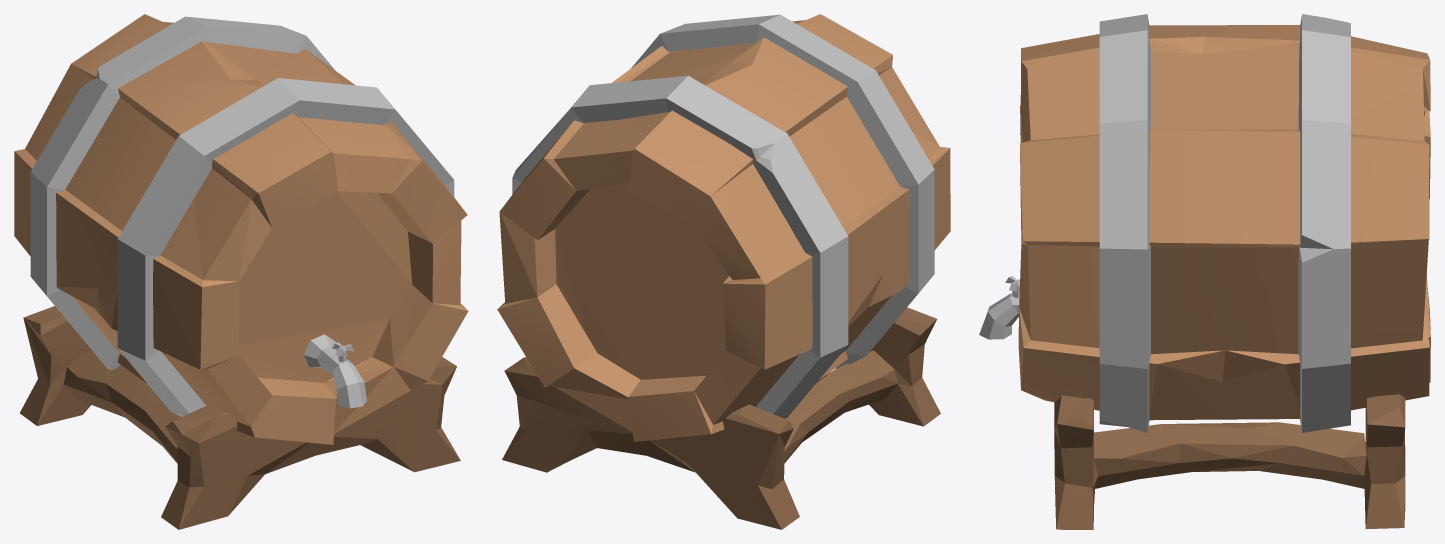
The model's file is barrel.fbx.
3 renders of one model, left to right at view 1: azimuth 30°, elevation 25°; view 2: azimuth 150°, elevation 25°; view 3: azimuth 270°, elevation 25°, orthographic. The views are drawn at different scales.
Visible parts, largest first — view 1: barrelCraneShabby; view 2: barrelCraneShabby; view 3: barrelCraneShabby.
Boxes of the visible parts, x1=… form: barrelCraneShabby: x1=14, y1=14, x2=468, y2=529; barrelCraneShabby: x1=497, y1=14, x2=950, y2=529; barrelCraneShabby: x1=979, y1=14, x2=1430, y2=529.
Size of the model in its own units: 105 by 121 by 117.
1 material, 1 textured.
